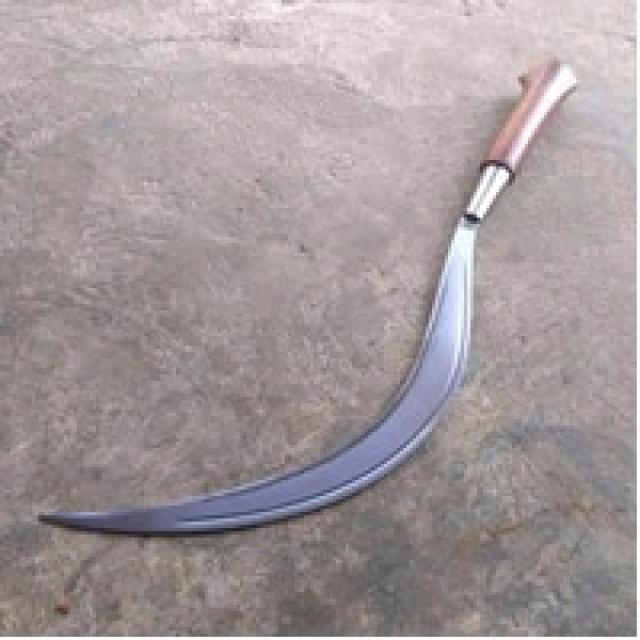Celurit: (44, 61, 582, 542)
